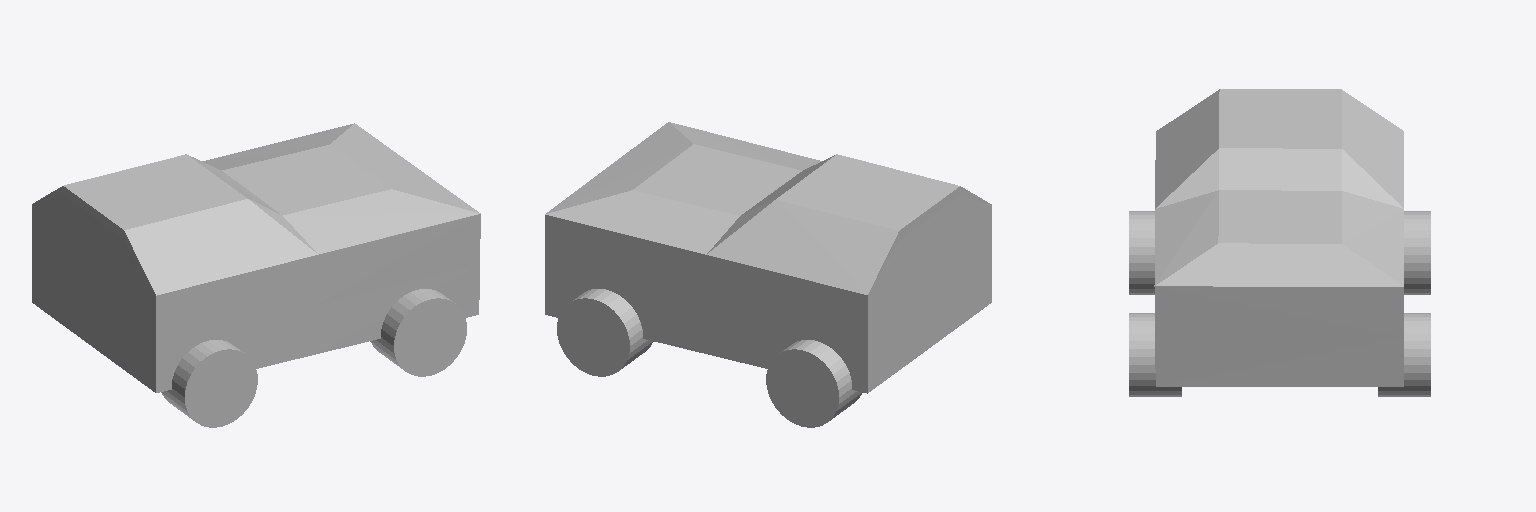
Rendered from tankWithWheels.obj.
3 renders of one model, left to right at view 1: azimuth 30°, elevation 25°; view 2: azimuth 150°, elevation 25°; view 3: azimuth 270°, elevation 25°, orthographic.
Visible parts, largest first — view 1: tankWithWheels; view 2: tankWithWheels; view 3: tankWithWheels.
Part boxes in pixels (left/top/right/bottom): tankWithWheels: left=32, top=123, right=480, bottom=427; tankWithWheels: left=545, top=122, right=991, bottom=427; tankWithWheels: left=1129, top=89, right=1430, bottom=396.
Size of the model in its own units: 3.61 by 1.89 by 2.91.